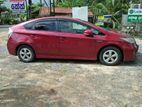car: (8, 15, 139, 66)
